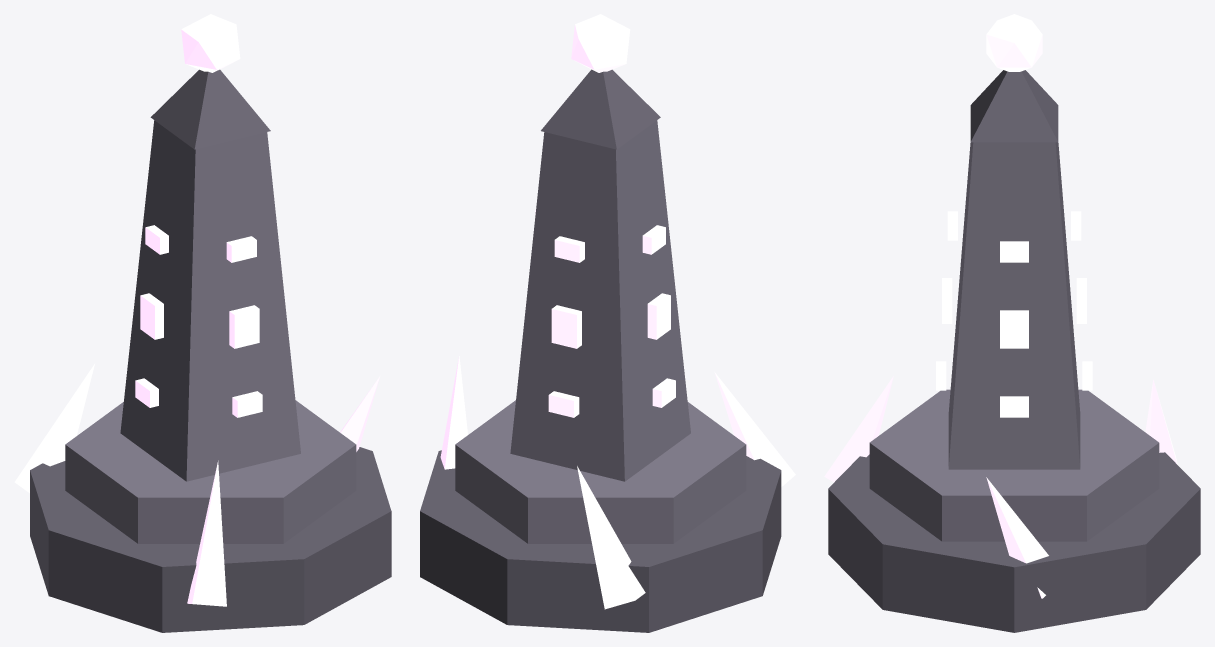
Rendered from waystone_breach.glb.
3 views of the same model, side by side, from view 1: azimuth 30°, elevation 25°; view 2: azimuth 150°, elevation 25°; view 3: azimuth 270°, elevation 25° (orthographic).
Visible parts, largest first — view 1: waystone_breach; view 2: waystone_breach; view 3: waystone_breach.
Part boxes in pixels (x1,y1,x2,y2): waystone_breach: [14, 14, 391, 632]; waystone_breach: [420, 14, 795, 632]; waystone_breach: [824, 14, 1200, 632].
Size of the model in its own units: 1.8 by 2.88 by 1.82.
